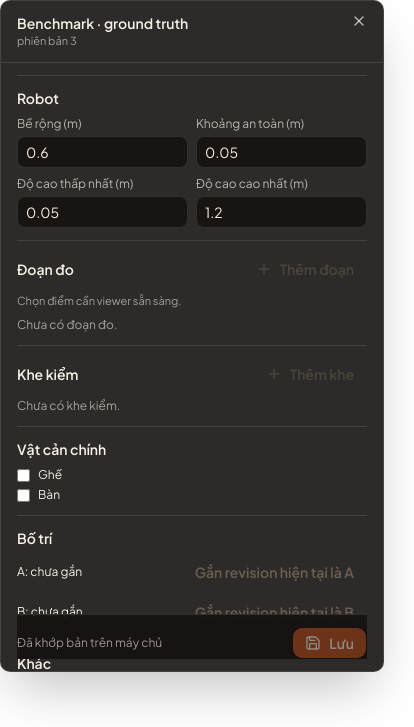
Test case: panel Benchmark › A và B cùng revision: không cho lưu và nêu lý do
Expected: the button "Lưu" is shown, [292, 627, 367, 659]
Click the button "Gắn revision hiện tại là A" at (274, 572), box [182, 556, 367, 588]
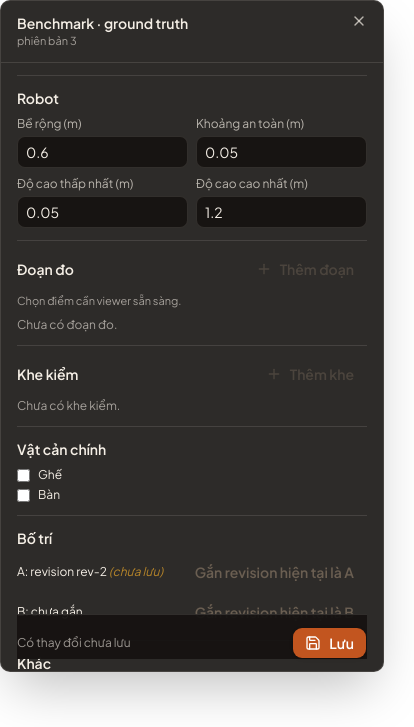
Click the button "Gắn revision hiện tại là B" at (274, 612), box [182, 596, 367, 628]
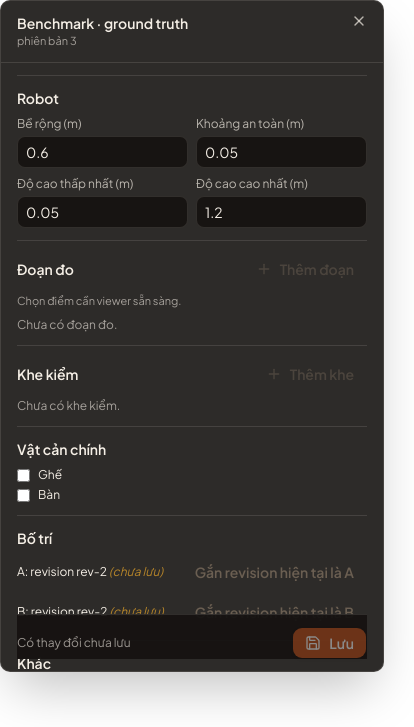
Expected: the button "Lưu" is disabled, [292, 627, 367, 659]
